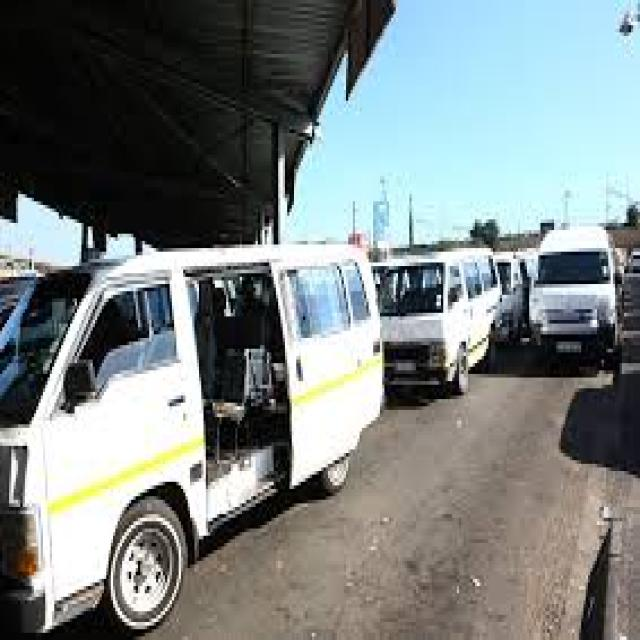MiniBus taxi: (2, 230, 384, 637), (384, 241, 506, 410), (529, 227, 620, 371)
